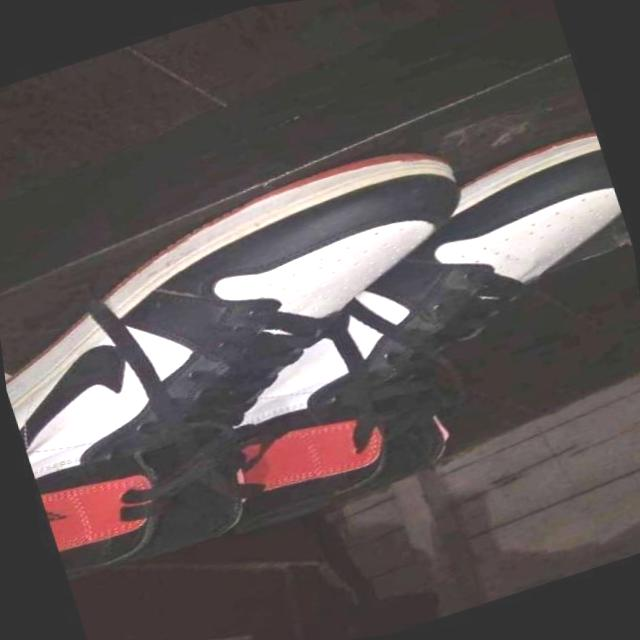nike_fake_jordan: (0, 119, 557, 590), (153, 125, 640, 536)
